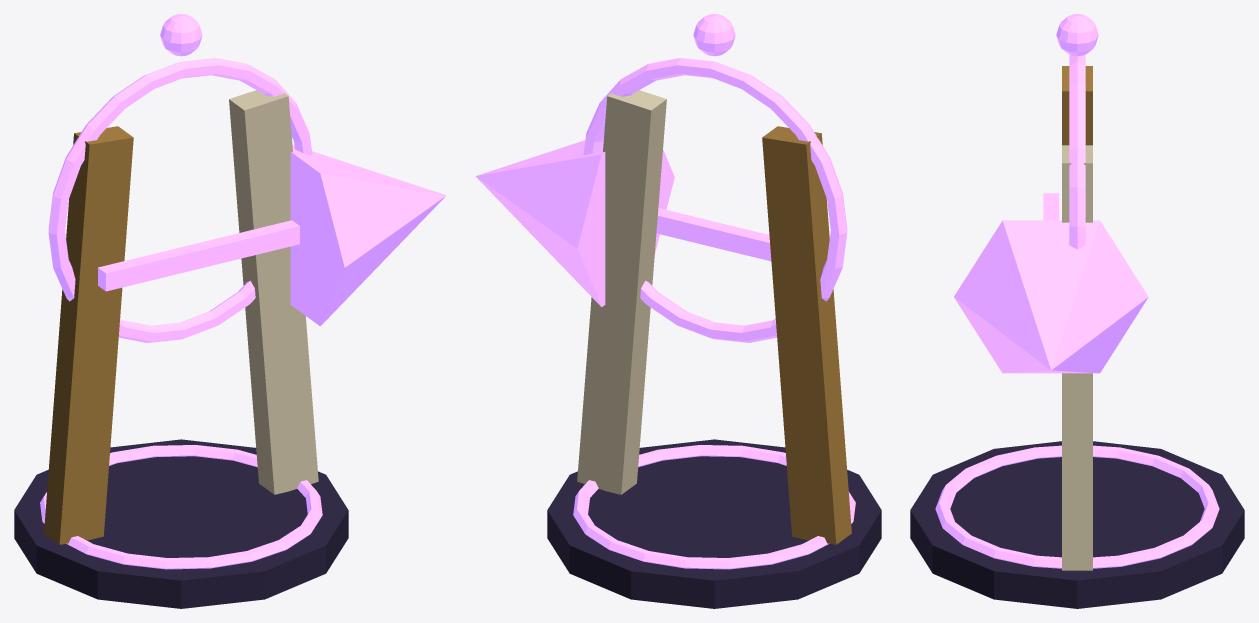
Rendered from runtime.glb.
The picture shows the model from 3 angles, left to right: view 1: azimuth 30°, elevation 25°; view 2: azimuth 150°, elevation 25°; view 3: azimuth 270°, elevation 25°; orthographic projection.
Visible parts, largest first — view 1: aetherion-orbit-beacon-v09_base_nocol, aetherion-orbit-beacon-v09_left_leg_nocol, aetherion-orbit-beacon-v09_right_leg_nocol, aetherion-orbit-beacon-v09_direction_head_nocol, aetherion-orbit-beacon-v09_open_hoop_nocol, aetherion-orbit-beacon-v09_base_orbit_nocol, aetherion-orbit-beacon-v09_direction_bar_nocol, aetherion-orbit-beacon-v09_zenith_nocol; view 2: aetherion-orbit-beacon-v09_base_nocol, aetherion-orbit-beacon-v09_left_leg_nocol, aetherion-orbit-beacon-v09_right_leg_nocol, aetherion-orbit-beacon-v09_direction_head_nocol, aetherion-orbit-beacon-v09_open_hoop_nocol, aetherion-orbit-beacon-v09_base_orbit_nocol, aetherion-orbit-beacon-v09_direction_bar_nocol, aetherion-orbit-beacon-v09_zenith_nocol; view 3: aetherion-orbit-beacon-v09_base_nocol, aetherion-orbit-beacon-v09_direction_head_nocol, aetherion-orbit-beacon-v09_right_leg_nocol, aetherion-orbit-beacon-v09_base_orbit_nocol, aetherion-orbit-beacon-v09_open_hoop_nocol, aetherion-orbit-beacon-v09_zenith_nocol, aetherion-orbit-beacon-v09_left_leg_nocol, aetherion-orbit-beacon-v09_direction_bar_nocol.
Boxes of the visible parts, x1,y1,x2,y2 form: aetherion-orbit-beacon-v09_base_nocol: [14, 439, 348, 608]; aetherion-orbit-beacon-v09_left_leg_nocol: [44, 126, 133, 544]; aetherion-orbit-beacon-v09_right_leg_nocol: [229, 90, 318, 494]; aetherion-orbit-beacon-v09_direction_head_nocol: [290, 144, 446, 326]; aetherion-orbit-beacon-v09_open_hoop_nocol: [48, 58, 312, 342]; aetherion-orbit-beacon-v09_base_orbit_nocol: [40, 445, 322, 569]; aetherion-orbit-beacon-v09_direction_bar_nocol: [98, 220, 299, 291]; aetherion-orbit-beacon-v09_zenith_nocol: [160, 14, 202, 56]; aetherion-orbit-beacon-v09_base_nocol: [547, 439, 881, 608]; aetherion-orbit-beacon-v09_left_leg_nocol: [762, 126, 851, 544]; aetherion-orbit-beacon-v09_right_leg_nocol: [577, 90, 666, 494]; aetherion-orbit-beacon-v09_direction_head_nocol: [475, 137, 674, 307]; aetherion-orbit-beacon-v09_open_hoop_nocol: [583, 58, 847, 342]; aetherion-orbit-beacon-v09_base_orbit_nocol: [573, 445, 855, 569]; aetherion-orbit-beacon-v09_direction_bar_nocol: [656, 208, 771, 261]; aetherion-orbit-beacon-v09_zenith_nocol: [693, 14, 735, 56]; aetherion-orbit-beacon-v09_base_nocol: [910, 441, 1244, 608]; aetherion-orbit-beacon-v09_direction_head_nocol: [954, 220, 1148, 373]; aetherion-orbit-beacon-v09_right_leg_nocol: [1062, 145, 1092, 570]; aetherion-orbit-beacon-v09_base_orbit_nocol: [935, 445, 1219, 568]; aetherion-orbit-beacon-v09_open_hoop_nocol: [1069, 54, 1085, 249]; aetherion-orbit-beacon-v09_zenith_nocol: [1056, 14, 1098, 56]; aetherion-orbit-beacon-v09_left_leg_nocol: [1062, 66, 1092, 145]; aetherion-orbit-beacon-v09_direction_bar_nocol: [1043, 193, 1059, 220].
Bounding box in the file's own units: 7.35 × 9.24 × 5.36.
